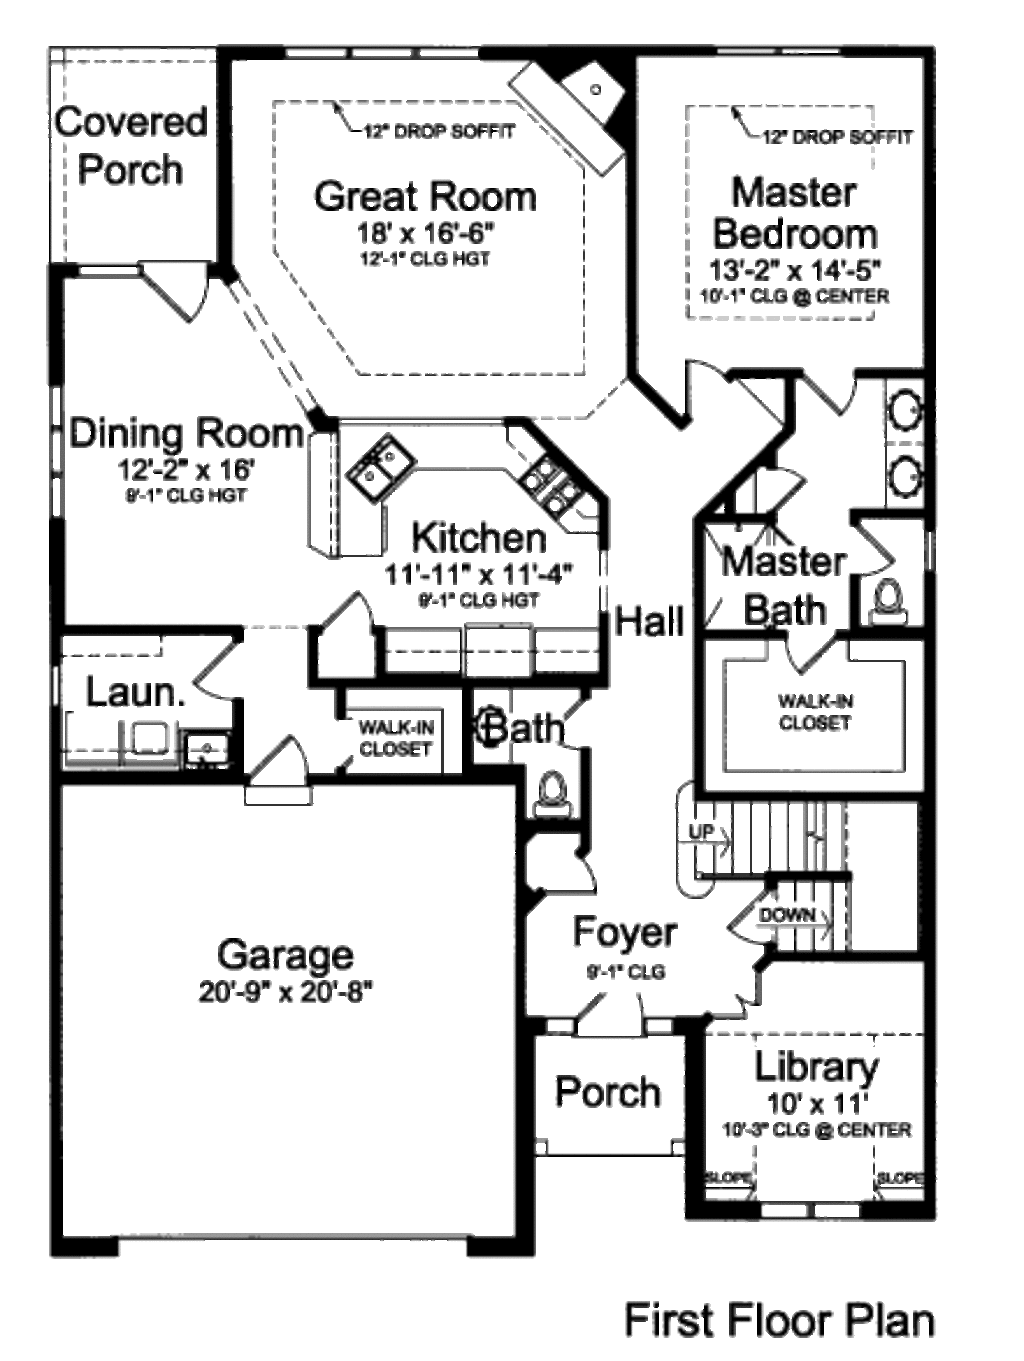door: (126, 249, 216, 331), (240, 729, 318, 811), (184, 629, 260, 711), (582, 969, 649, 1052), (675, 349, 736, 428), (537, 843, 612, 898), (725, 876, 781, 946), (713, 966, 776, 1027), (803, 356, 861, 422), (316, 589, 384, 639), (778, 616, 837, 674), (760, 452, 806, 518), (847, 519, 894, 577)
large_sink: (526, 769, 580, 825), (867, 571, 918, 628)
small_sink: (874, 369, 930, 500), (477, 686, 520, 763)
stairs: (675, 786, 906, 950)
twin_sink: (343, 419, 427, 511)
window: (758, 1190, 864, 1231)
